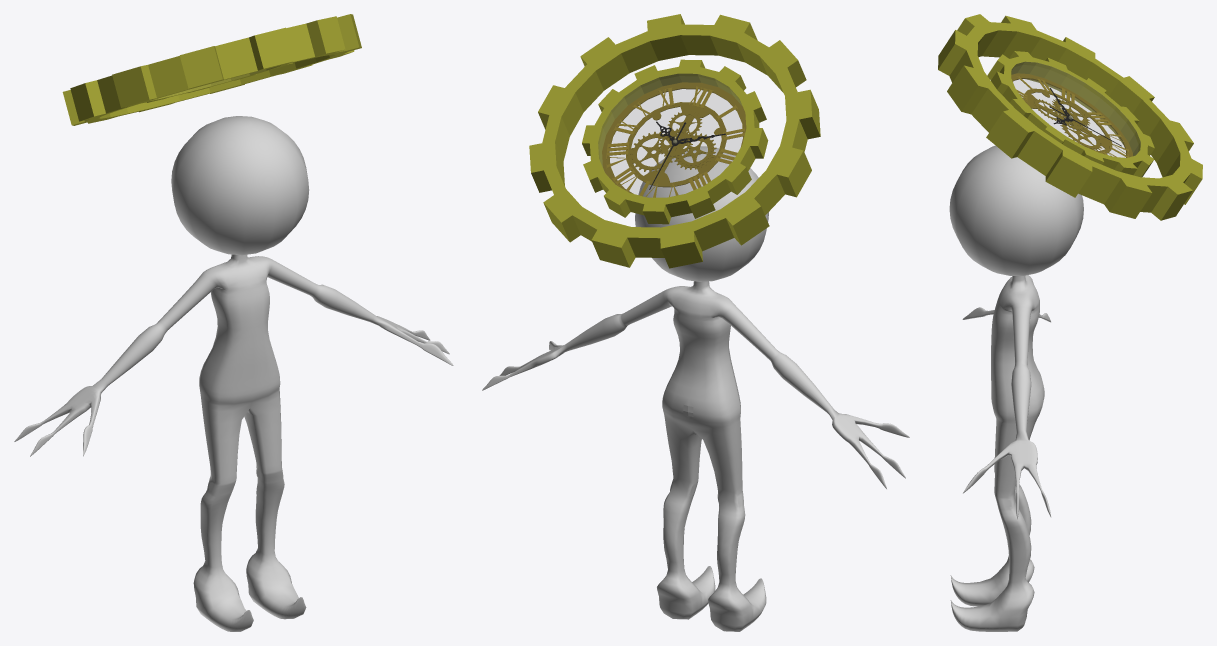
File: kronos.fbx
3 views of the same model, side by side, from view 1: azimuth 30°, elevation 25°; view 2: azimuth 150°, elevation 25°; view 3: azimuth 270°, elevation 25° (orthographic). The views are drawn at different scales.
Parts seen in each view (by area): view 1: polySurface4, Big; view 2: polySurface4, Big, Mini_Clock; view 3: polySurface4, Big, Mini_Clock.
Boxes of the visible parts, bbox=[...] form: polySurface4: bbox=[14, 116, 453, 631]; Big: bbox=[62, 14, 361, 125]; polySurface4: bbox=[482, 146, 909, 631]; Big: bbox=[529, 14, 820, 268]; Mini_Clock: bbox=[582, 59, 768, 224]; polySurface4: bbox=[949, 145, 1083, 631]; Big: bbox=[938, 14, 1202, 220]; Mini_Clock: bbox=[987, 51, 1154, 177].
Bounding box in the file's own units: 15.95 × 21.8 × 9.04.
